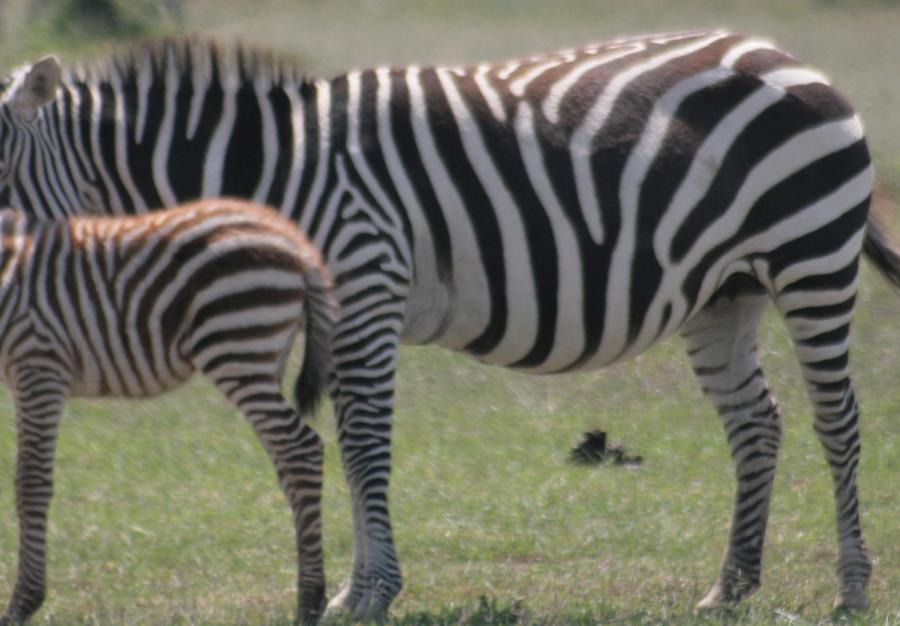zebra_plains: (264, 40, 862, 302)
